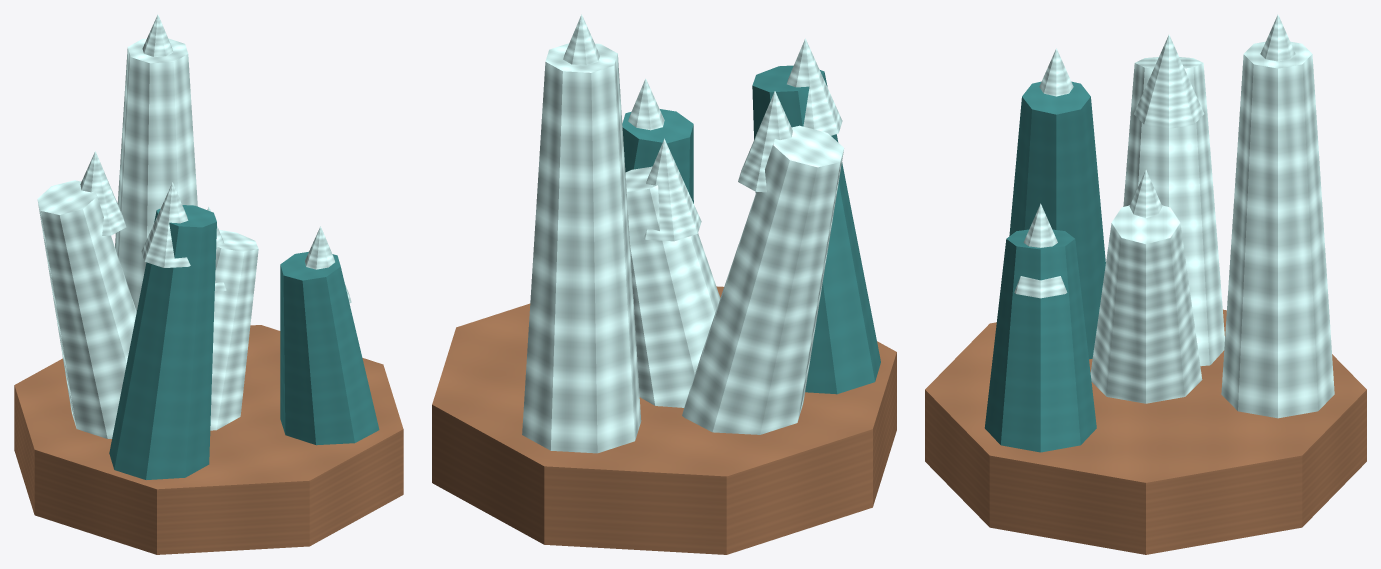
Rendered from atlas100-s092-a04.glb.
3 renders of one model, left to right at view 1: azimuth 30°, elevation 25°; view 2: azimuth 150°, elevation 25°; view 3: azimuth 270°, elevation 25°, orthographic. The views are drawn at different scales.
Visible parts, largest first — view 1: atlas100-s092-a04:part-000, atlas100-s092-a04:part-003, atlas100-s092-a04:part-009, atlas100-s092-a04:part-007, atlas100-s092-a04:part-005, atlas100-s092-a04:part-001, atlas100-s092-a04:part-004, atlas100-s092-a04:part-010, atlas100-s092-a04:part-008, atlas100-s092-a04:part-006; view 2: atlas100-s092-a04:part-000, atlas100-s092-a04:part-005, atlas100-s092-a04:part-009, atlas100-s092-a04:part-001, atlas100-s092-a04:part-003, atlas100-s092-a04:part-007, atlas100-s092-a04:part-002, atlas100-s092-a04:part-004, atlas100-s092-a04:part-010, atlas100-s092-a04:part-006, atlas100-s092-a04:part-008; view 3: atlas100-s092-a04:part-000, atlas100-s092-a04:part-005, atlas100-s092-a04:part-007, atlas100-s092-a04:part-001, atlas100-s092-a04:part-003, atlas100-s092-a04:part-009, atlas100-s092-a04:part-010, atlas100-s092-a04:part-008, atlas100-s092-a04:part-004, atlas100-s092-a04:part-006, atlas100-s092-a04:part-002.
Boxes of the visible parts, left/top/right/bottom form: atlas100-s092-a04:part-000: left=14, top=325, right=403, bottom=554; atlas100-s092-a04:part-003: left=109, top=205, right=216, bottom=479; atlas100-s092-a04:part-009: left=37, top=180, right=136, bottom=438; atlas100-s092-a04:part-007: left=280, top=251, right=379, bottom=445; atlas100-s092-a04:part-005: left=115, top=38, right=197, bottom=311; atlas100-s092-a04:part-001: left=210, top=230, right=258, bottom=430; atlas100-s092-a04:part-004: left=141, top=182, right=190, bottom=267; atlas100-s092-a04:part-010: left=80, top=151, right=126, bottom=235; atlas100-s092-a04:part-008: left=305, top=226, right=351, bottom=303; atlas100-s092-a04:part-006: left=142, top=14, right=173, bottom=56; atlas100-s092-a04:part-000: left=432, top=286, right=896, bottom=554; atlas100-s092-a04:part-005: left=522, top=43, right=641, bottom=453; atlas100-s092-a04:part-009: left=682, top=125, right=844, bottom=434; atlas100-s092-a04:part-001: left=625, top=166, right=720, bottom=407; atlas100-s092-a04:part-003: left=752, top=65, right=880, bottom=394; atlas100-s092-a04:part-007: left=622, top=109, right=693, bottom=203; atlas100-s092-a04:part-002: left=643, top=138, right=701, bottom=241; atlas100-s092-a04:part-004: left=787, top=38, right=842, bottom=135; atlas100-s092-a04:part-010: left=738, top=91, right=792, bottom=192; atlas100-s092-a04:part-006: left=563, top=14, right=599, bottom=65; atlas100-s092-a04:part-008: left=628, top=78, right=664, bottom=130; atlas100-s092-a04:part-000: left=925, top=309, right=1366, bottom=554; atlas100-s092-a04:part-005: left=1221, top=41, right=1334, bottom=418; atlas100-s092-a04:part-007: left=984, top=229, right=1096, bottom=452; atlas100-s092-a04:part-001: left=1090, top=205, right=1202, bottom=403; atlas100-s092-a04:part-003: left=1009, top=81, right=1105, bottom=359; atlas100-s092-a04:part-009: left=1123, top=57, right=1224, bottom=366; atlas100-s092-a04:part-010: left=1134, top=34, right=1204, bottom=128; atlas100-s092-a04:part-008: left=1014, top=203, right=1067, bottom=298; atlas100-s092-a04:part-004: left=1039, top=48, right=1073, bottom=96; atlas100-s092-a04:part-006: left=1260, top=14, right=1295, bottom=61; atlas100-s092-a04:part-002: left=1129, top=170, right=1162, bottom=217.
Size of the model in its own units: 1.07 by 1.21 by 1.07.
Materials: 3 (3 with a texture image).
